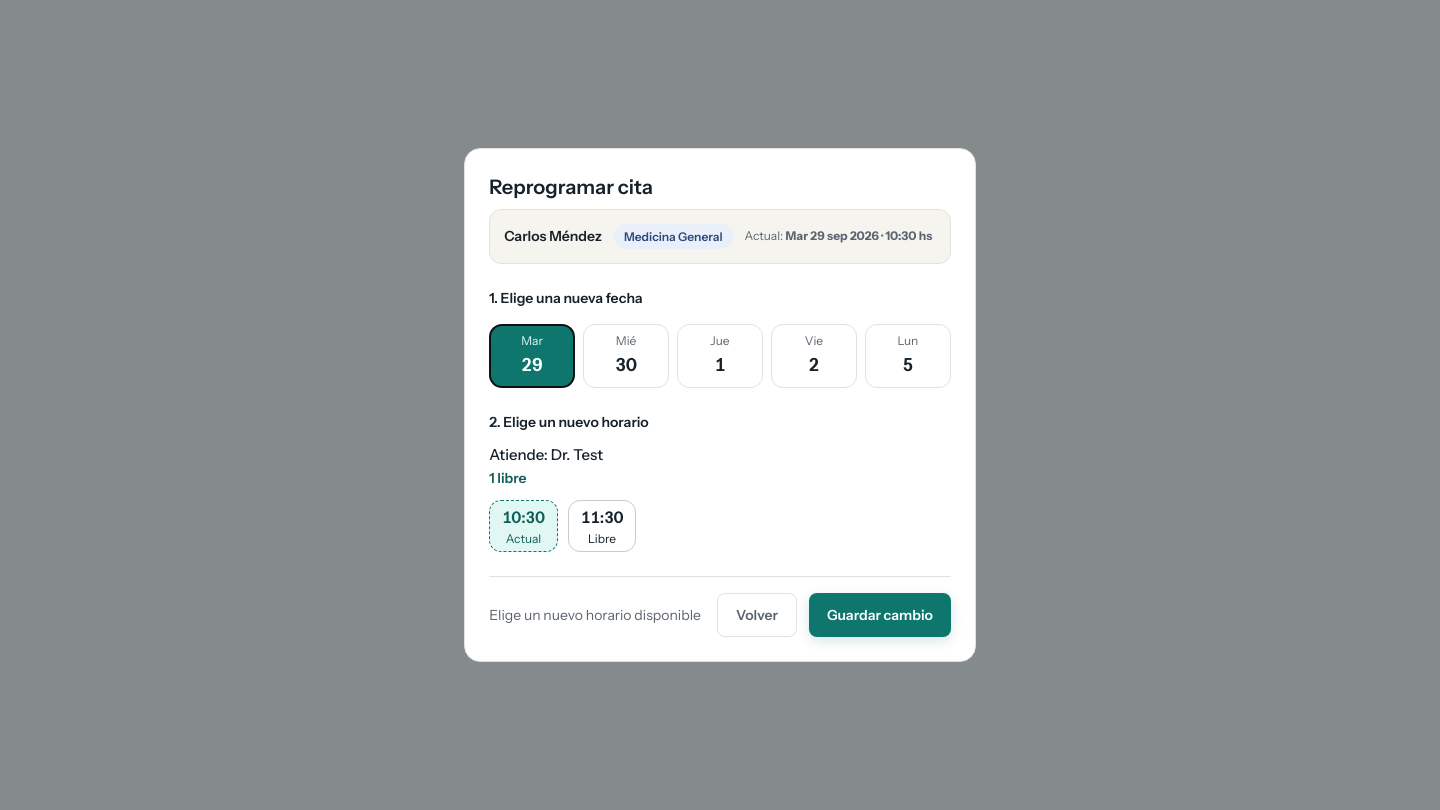
Test: RescheduleDialog › shows the SLOT_TAKEN message and reloads availability
Click the button with aria-label "11:30, libre" at x=602, y=526, box [568, 500, 636, 552]
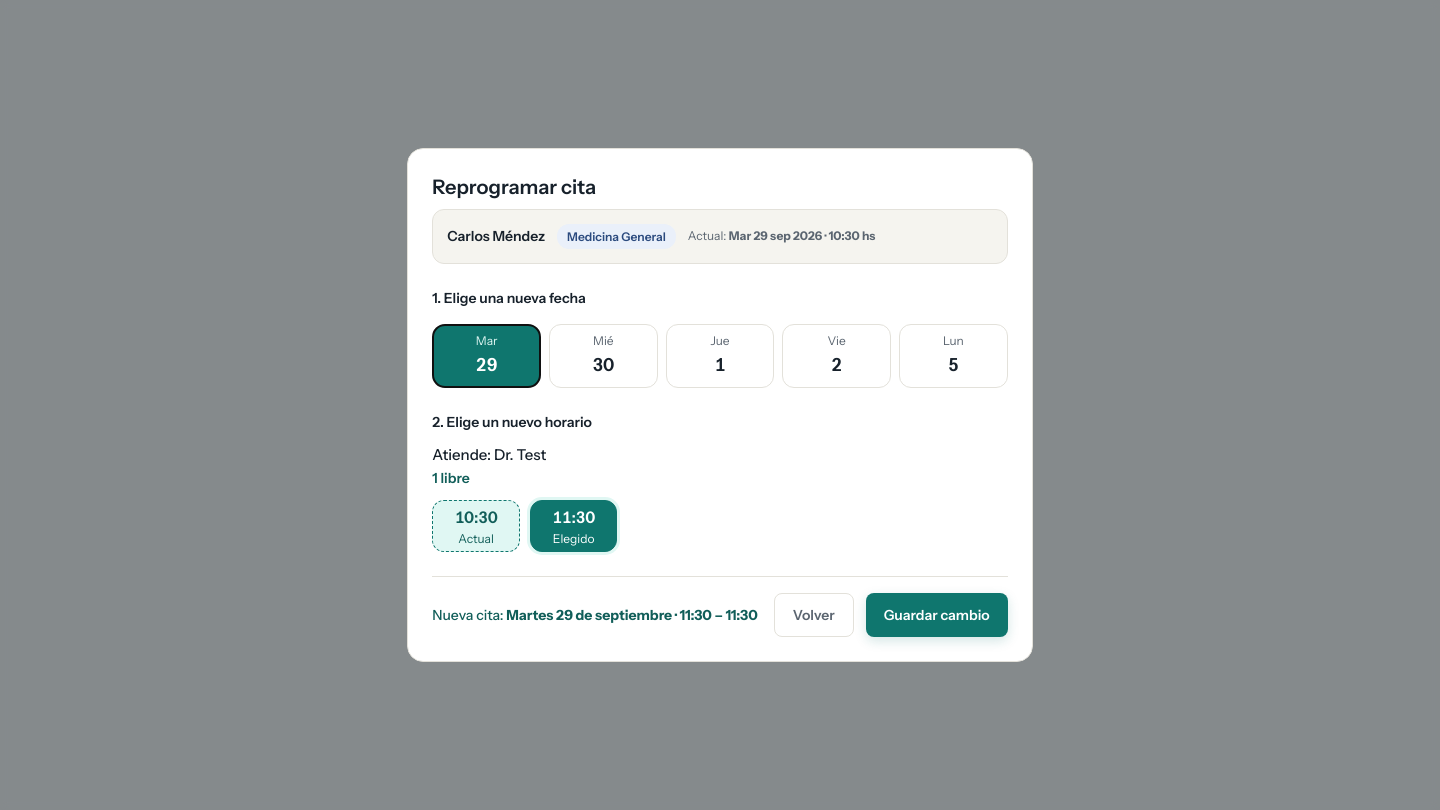
Click the button "Guardar cambio" at x=937, y=615, box [866, 593, 1008, 637]
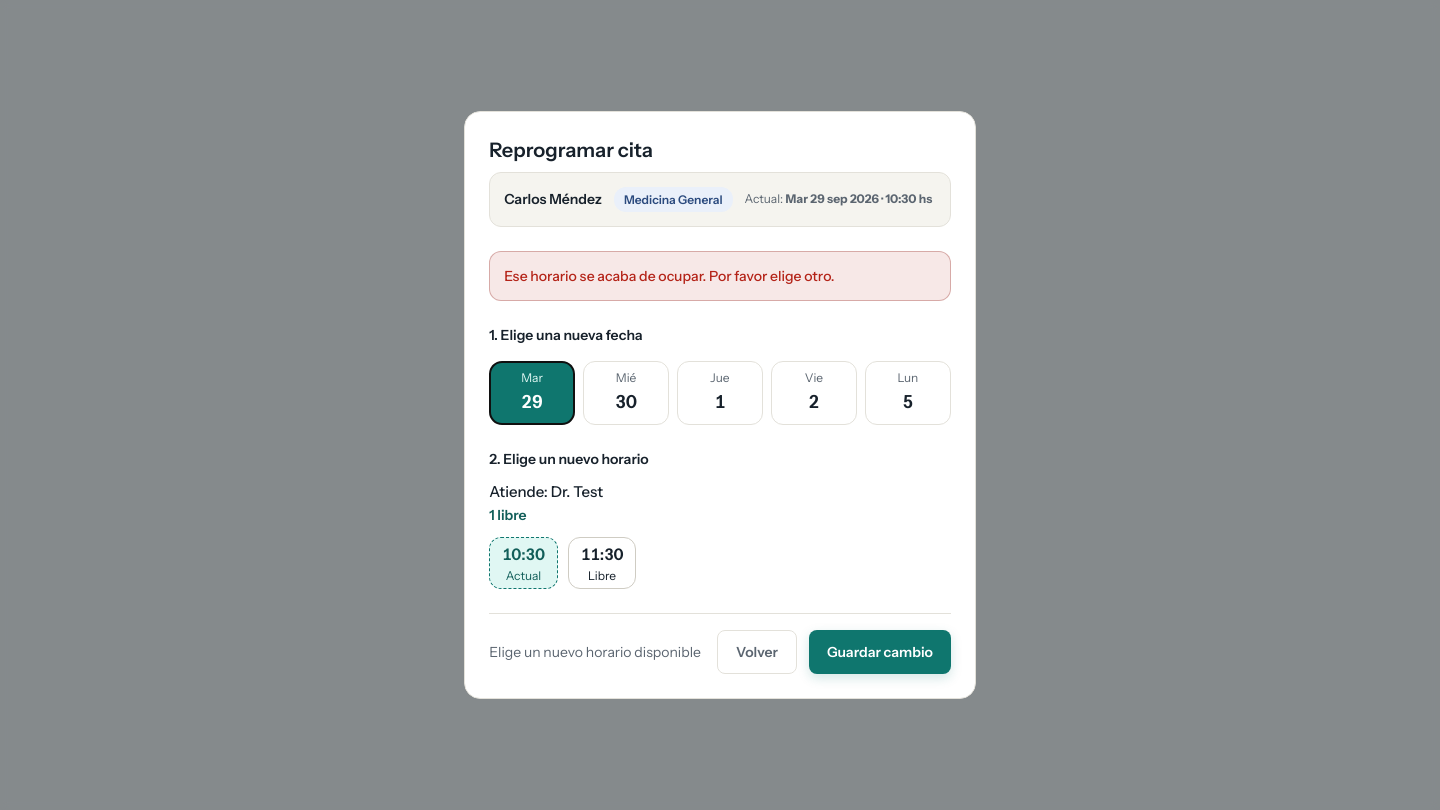
Expected: the text "Ese horario se acaba de ocupar. Por favor elige otro." is shown, [489, 251, 951, 301]
